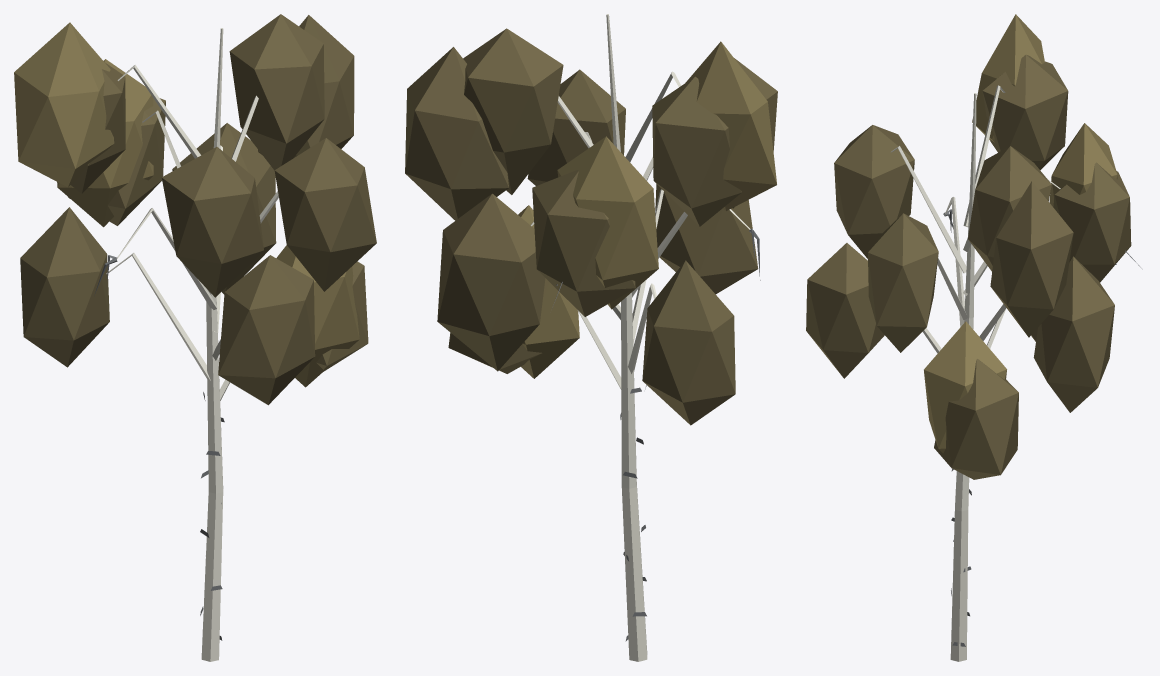
File: birch_winter_01.glb
The picture shows the model from 3 angles, left to right: view 1: azimuth 30°, elevation 25°; view 2: azimuth 150°, elevation 25°; view 3: azimuth 270°, elevation 25°; orthographic projection. The views are drawn at different scales.
Visible parts, largest first — view 1: Birch_winter_01; view 2: Birch_winter_01; view 3: Birch_winter_01.
Boxes of the visible parts, x1=… form: Birch_winter_01: x1=14, y1=14, x2=376, y2=661; Birch_winter_01: x1=405, y1=14, x2=777, y2=661; Birch_winter_01: x1=806, y1=14, x2=1142, y2=661.
Bounding box in the file's own units: 9.55 × 16.92 × 8.77.
